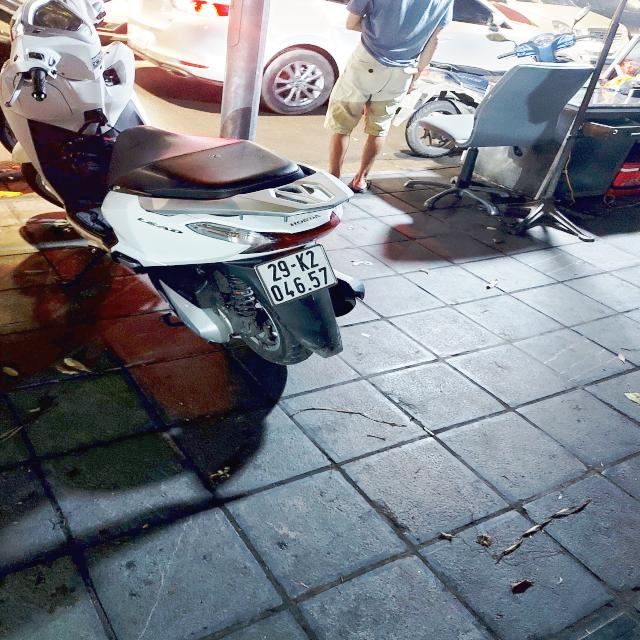license_plate: (251, 241, 345, 311)
